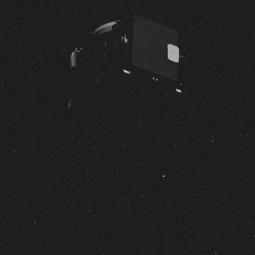proba_3_csc: (56, 10, 194, 133)
